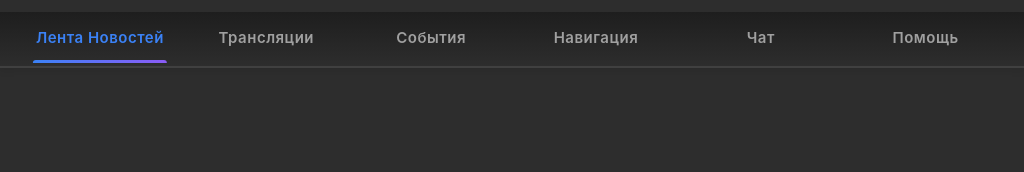
Scenario: NavTabs › renders split tabs for feed on hover
Hover over the text "Лента Новостей" at (100, 39), box [16,12,184,66]
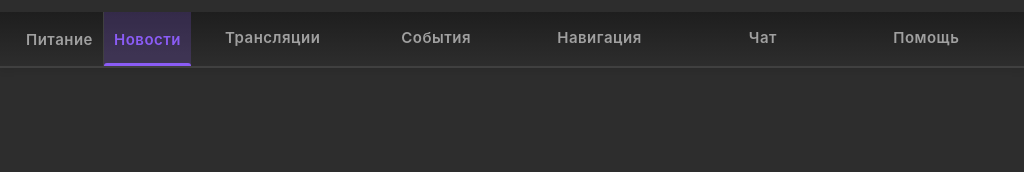
Now the button "Питание" is shown, box [16,12,104,66]
Now the button "Новости" is shown, box [104,12,191,66]
